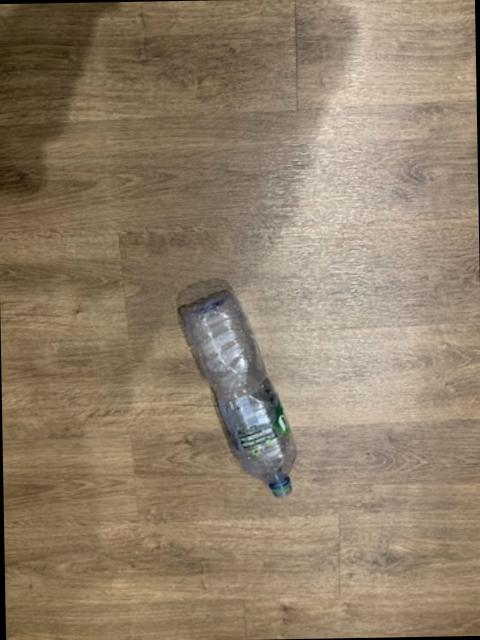plastic: (177, 293, 294, 498)
